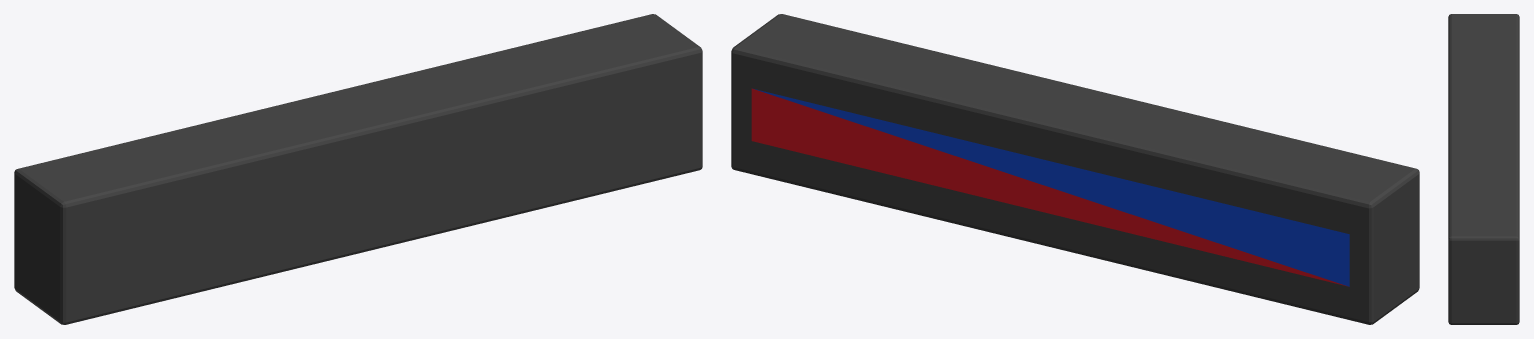
File: ACUnit.fbx
3 renders of one model, left to right at view 1: azimuth 30°, elevation 25°; view 2: azimuth 150°, elevation 25°; view 3: azimuth 270°, elevation 25°, orthographic. The views are drawn at different scales.
Parts seen in each view (by area): view 1: AC_Unit; view 2: AC_Unit; view 3: AC_Unit.
Boxes of the visible parts, x1=… form: AC_Unit: x1=14, y1=14, x2=702, y2=324; AC_Unit: x1=731, y1=14, x2=1419, y2=324; AC_Unit: x1=1448, y1=14, x2=1519, y2=324.
Size of the model in its own units: 20.47 by 3.75 by 2.74.
